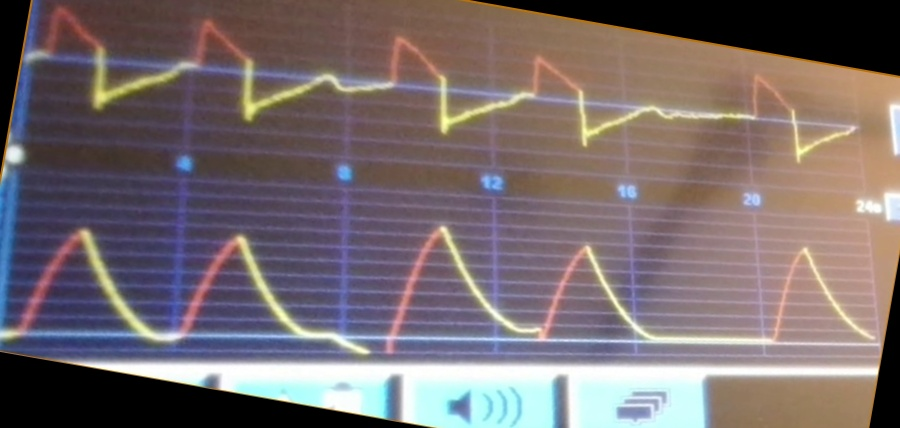Ineffective_effort Flow: (34, 5, 857, 162)
Ineffective_effort Volume: (9, 217, 868, 353)
